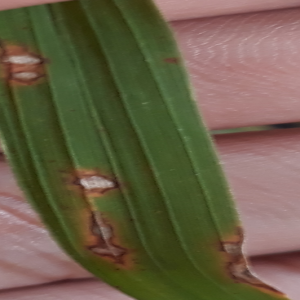Rice_Blast: (54, 149, 126, 203), (228, 260, 288, 300), (209, 218, 254, 264), (68, 211, 121, 242), (88, 240, 136, 269), (1, 45, 52, 71), (6, 69, 51, 89)
